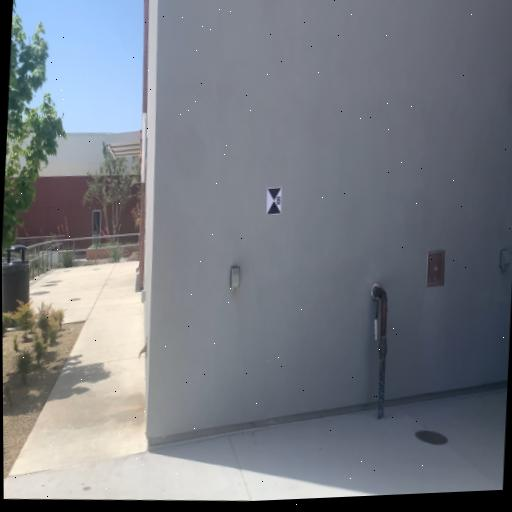target8: (266, 187, 283, 215)
